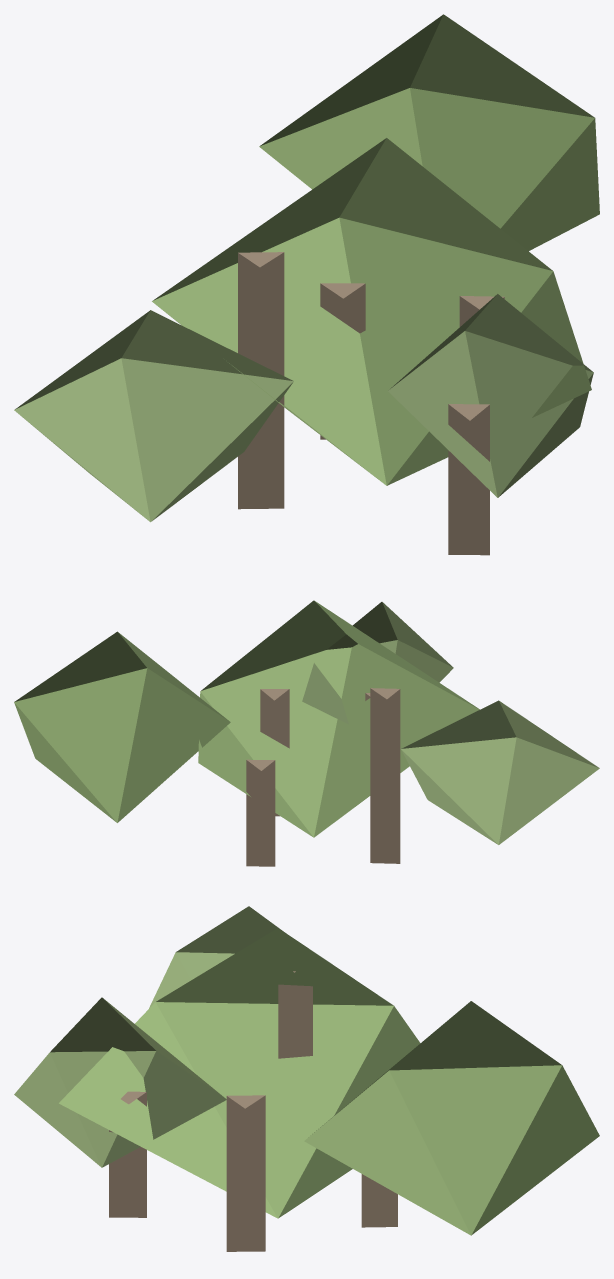
The model's file is shrub.cold.dwarf_birch__spring.glb.
3 views of the same model, one above another, from view 1: azimuth 30°, elevation 25°; view 2: azimuth 150°, elevation 25°; view 3: azimuth 270°, elevation 25° (orthographic). The views are drawn at different scales.
Parts seen in each view (by area): view 1: shrub.cold.dwarf_birch__spring; view 2: shrub.cold.dwarf_birch__spring; view 3: shrub.cold.dwarf_birch__spring.
Part boxes in pixels (x1,y1,x2,y2): shrub.cold.dwarf_birch__spring: [14, 14, 599, 555]; shrub.cold.dwarf_birch__spring: [14, 600, 599, 866]; shrub.cold.dwarf_birch__spring: [14, 906, 599, 1251].
Size of the model in its own units: 1.71 by 0.8506 by 1.52.
